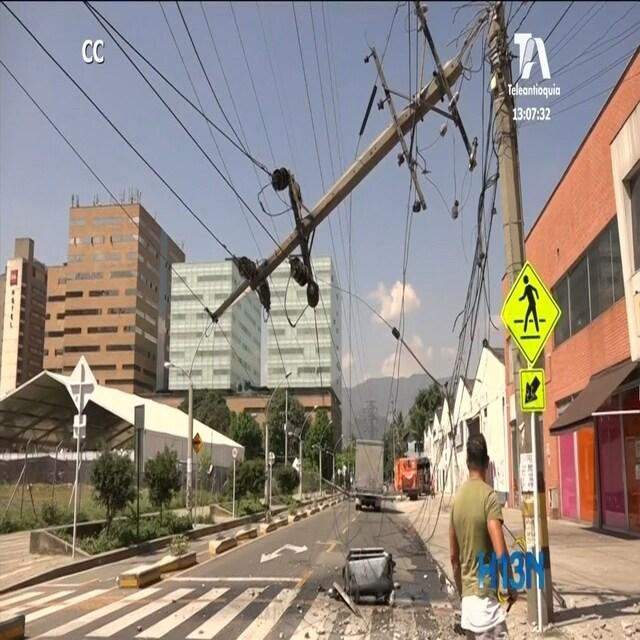Inclined Pole: (199, 0, 557, 625)
